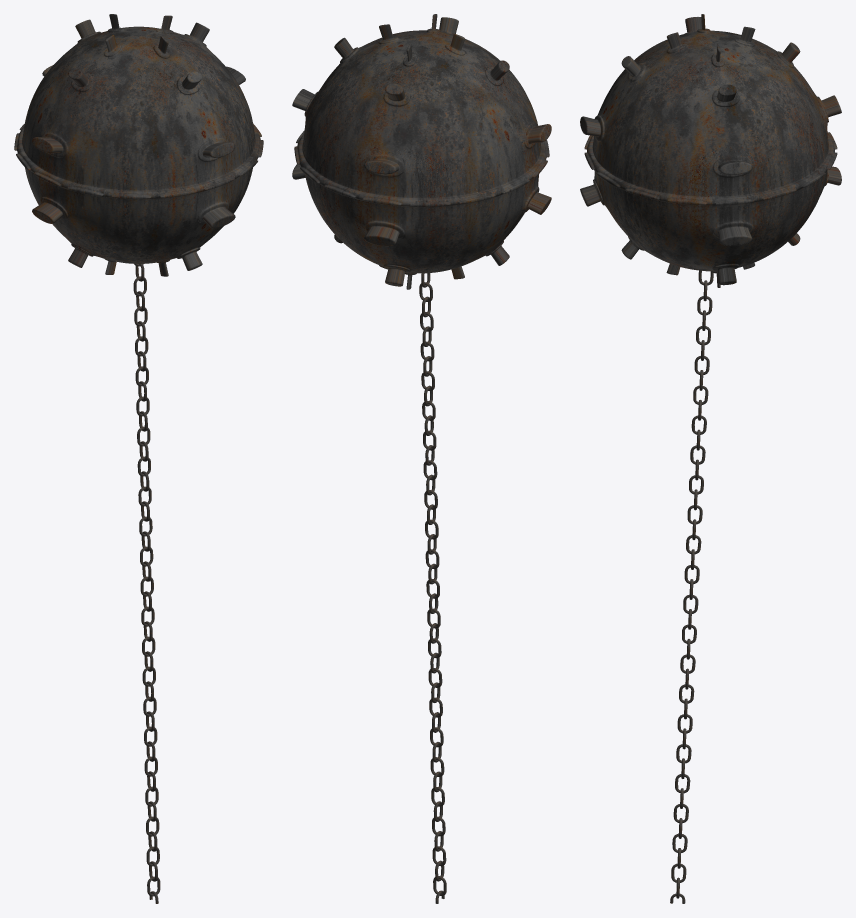
Rendered from Mina.fbx.
3 views of the same model, side by side, from view 1: azimuth 30°, elevation 25°; view 2: azimuth 150°, elevation 25°; view 3: azimuth 270°, elevation 25° (orthographic). The views are drawn at different scales.
Parts seen in each view (by area): view 1: Sphere, Torus; view 2: Sphere, Torus; view 3: Sphere, Torus.
Part boxes in pixels (x1,y1,x2,y2): Sphere: (14,14,263,276); Torus: (133,264,160,903); Sphere: (292,14,551,289); Torus: (419,273,446,903); Sphere: (580,14,841,287); Torus: (670,270,713,903).
Size of the model in its own units: 117 by 430 by 117.
